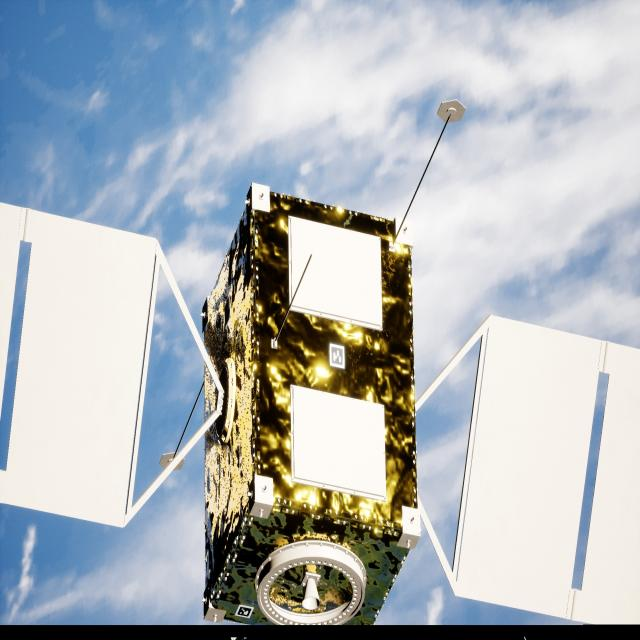satellite: (0, 186, 640, 627)
